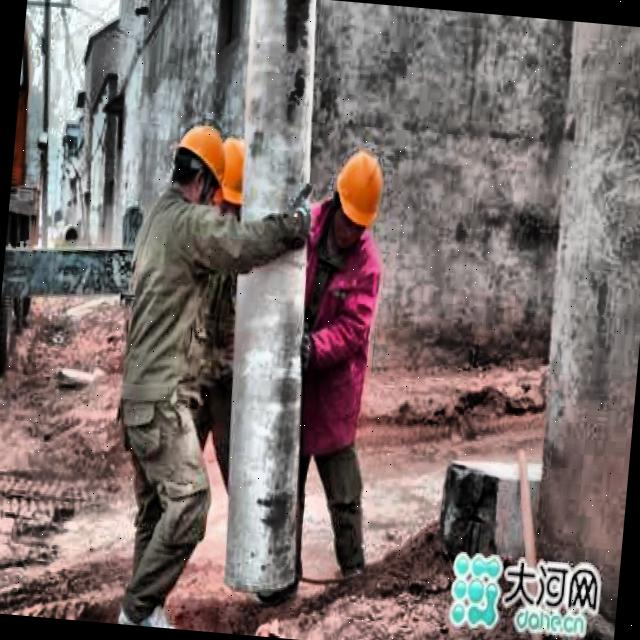helmet: (325, 148, 390, 258), (167, 120, 229, 220), (210, 130, 258, 222)
